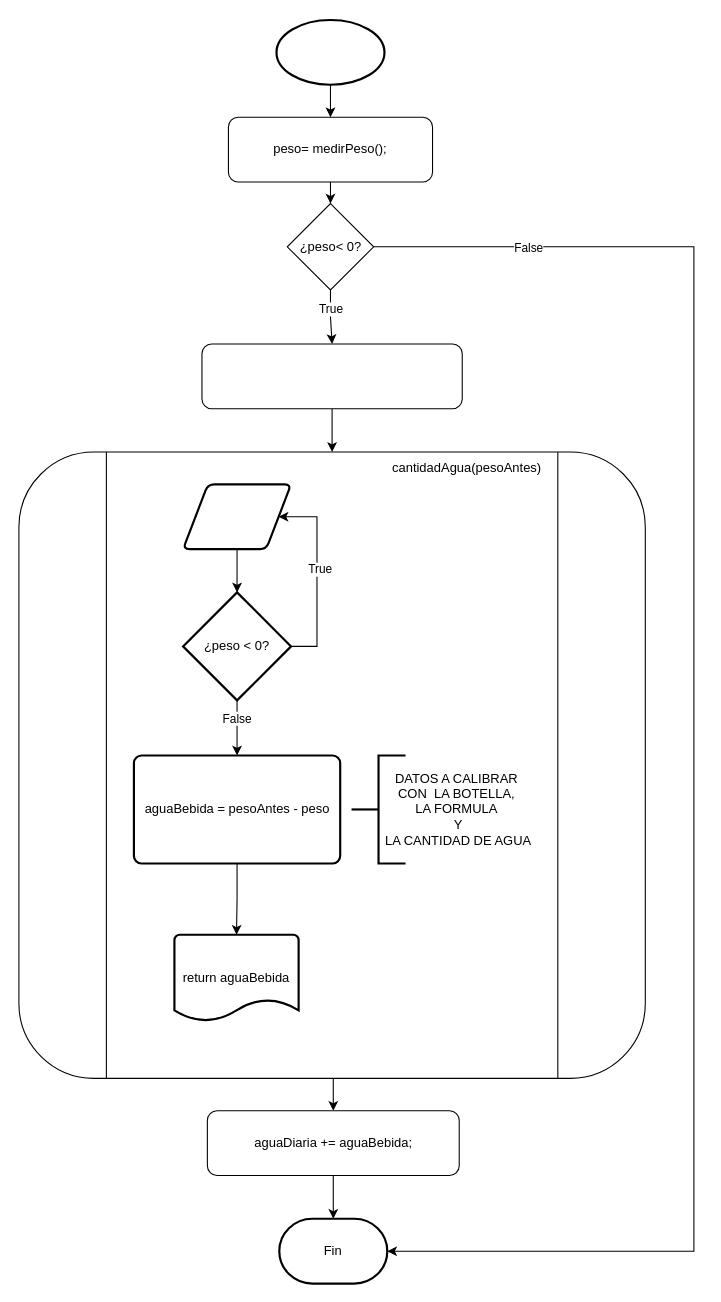
Some shapes in this 721 by 1302 pixel diagram are drawn without their labels. The box of each missing label's shape, as (x1, y1, x2, y2) in pixels:
aguaBebida = cantidadAgua(peso): (201, 343, 462, 409)
Inicio: (275, 18, 385, 85)
peso = x: (181, 483, 292, 550)
